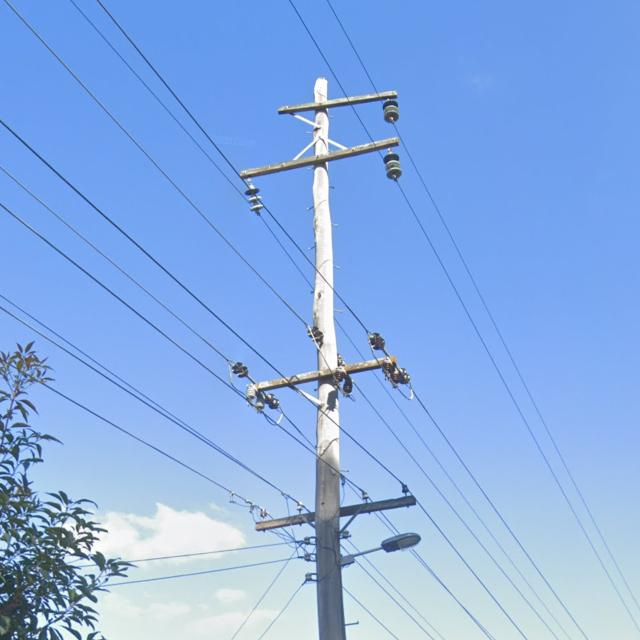HV-transmission: (238, 76, 418, 218), (225, 325, 411, 415)
crossarm: (239, 137, 399, 179), (255, 497, 416, 532), (246, 356, 394, 393), (278, 90, 397, 115)
streetlight: (342, 531, 420, 564)
timber-pole: (314, 77, 348, 640)
